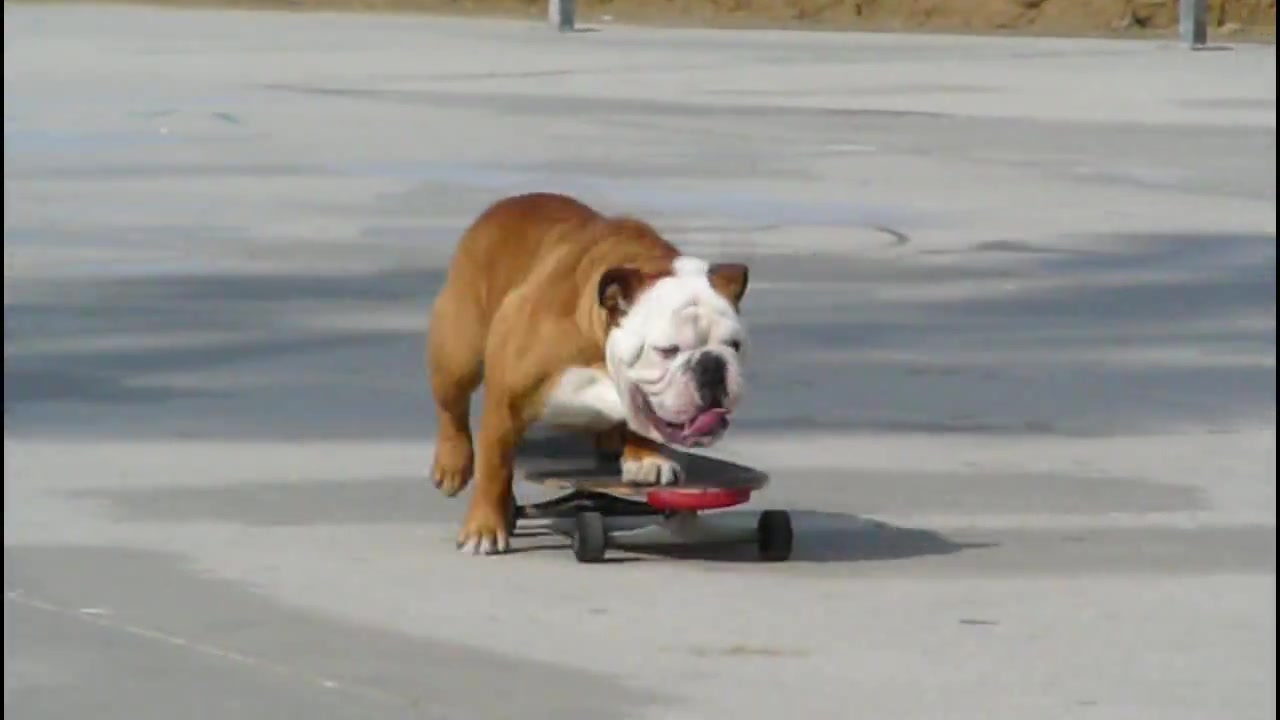dog: (428, 188, 753, 563)
